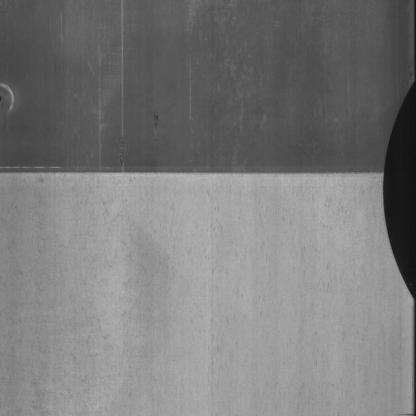welding_line: (0, 154, 391, 190)
